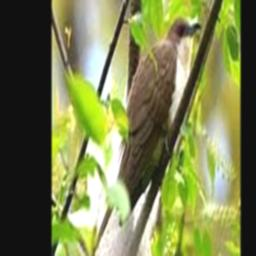Cuckoo: (80, 16, 201, 256)
